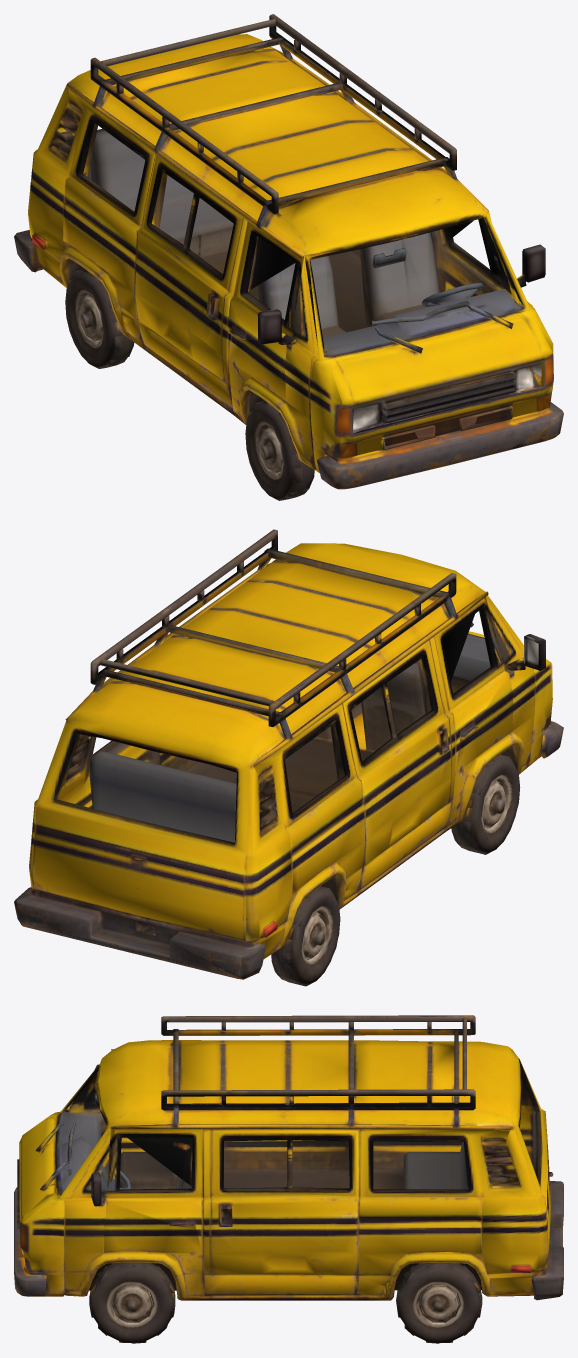
File: danfo.glb
3 renders of one model, top to bottom at view 1: azimuth 30°, elevation 25°; view 2: azimuth 150°, elevation 25°; view 3: azimuth 270°, elevation 25°, orthographic. The views are drawn at different scales.
Visible parts, largest first — view 1: tripo_node_a9c975cb-3dbb-4cf8-ab29-877f05f02c6e; view 2: tripo_node_a9c975cb-3dbb-4cf8-ab29-877f05f02c6e; view 3: tripo_node_a9c975cb-3dbb-4cf8-ab29-877f05f02c6e.
Part boxes in pixels (<box>): tripo_node_a9c975cb-3dbb-4cf8-ab29-877f05f02c6e: <box>14,14,563,500</box>; tripo_node_a9c975cb-3dbb-4cf8-ab29-877f05f02c6e: <box>14,529,563,986</box>; tripo_node_a9c975cb-3dbb-4cf8-ab29-877f05f02c6e: <box>14,1015,563,1343</box>.
Bounding box in the file's own units: 0.4956 × 0.4802 × 0.9777.
1 material, 1 textured.
